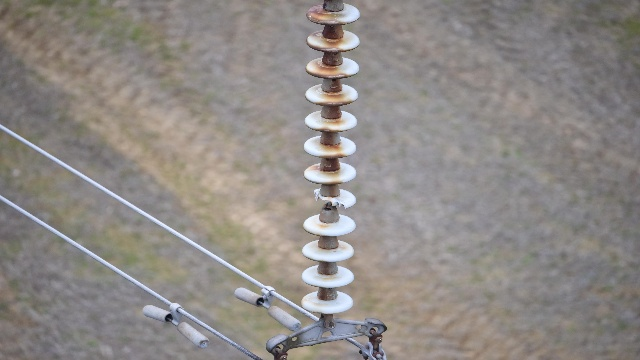broken_local: (314, 188, 351, 211)
insulator_unspecified: (301, 5, 362, 314)
pollution_flashover_local: (307, 4, 340, 26), (312, 30, 343, 53), (314, 59, 344, 79)
